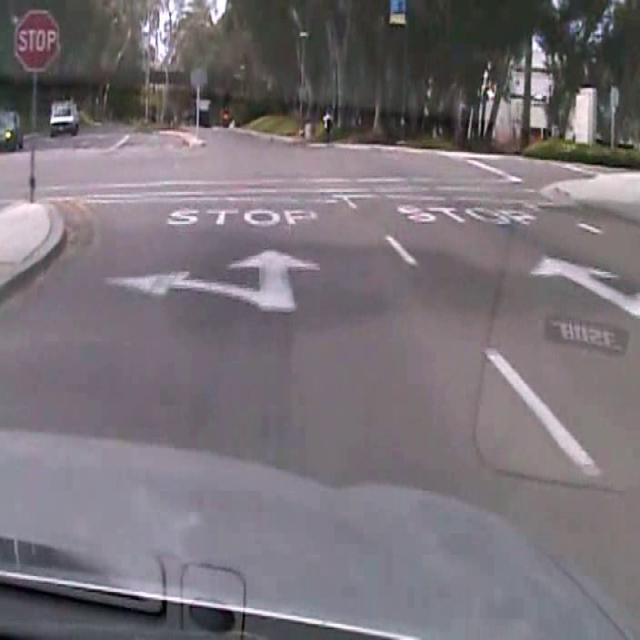stop_sign: (14, 8, 60, 71)
